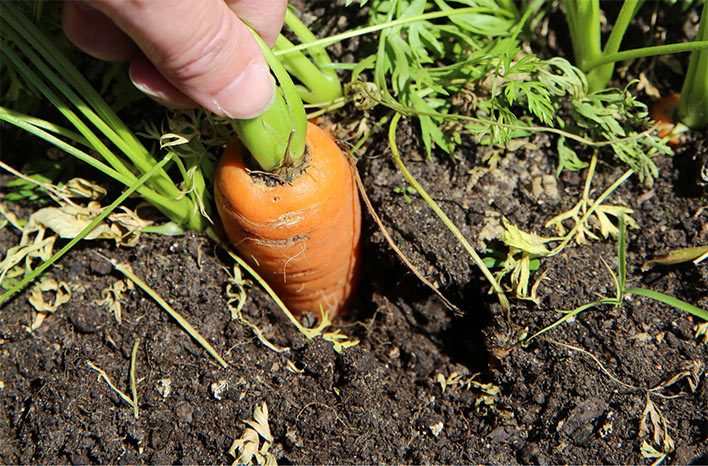carrot: (183, 106, 394, 381)
